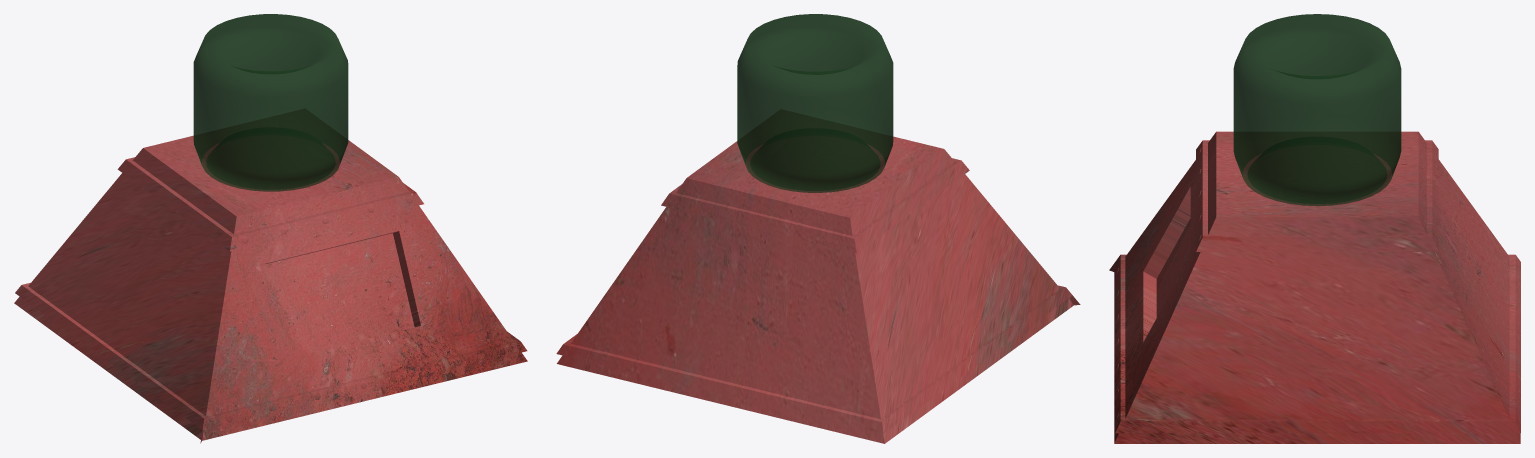
Rendered from barrel.glb.
3 views of the same model, side by side, from view 1: azimuth 30°, elevation 25°; view 2: azimuth 150°, elevation 25°; view 3: azimuth 270°, elevation 25° (orthographic). The views are drawn at different scales.
Parts seen in each view (by area): view 1: Cube, Cylinder; view 2: Cube, Cylinder; view 3: Cube, Cylinder.
Boxes of the visible parts, left/top/right/bottom form: Cube: left=14, top=135, right=527, bottom=443; Cylinder: left=193, top=14, right=348, bottom=191; Cube: left=556, top=136, right=1080, bottom=443; Cylinder: left=737, top=14, right=893, bottom=192; Cube: left=1109, top=131, right=1520, bottom=443; Cylinder: left=1233, top=14, right=1401, bottom=206.
Size of the model in its own units: 5.6 by 4.7 by 5.6.
2 materials, 1 textured.
